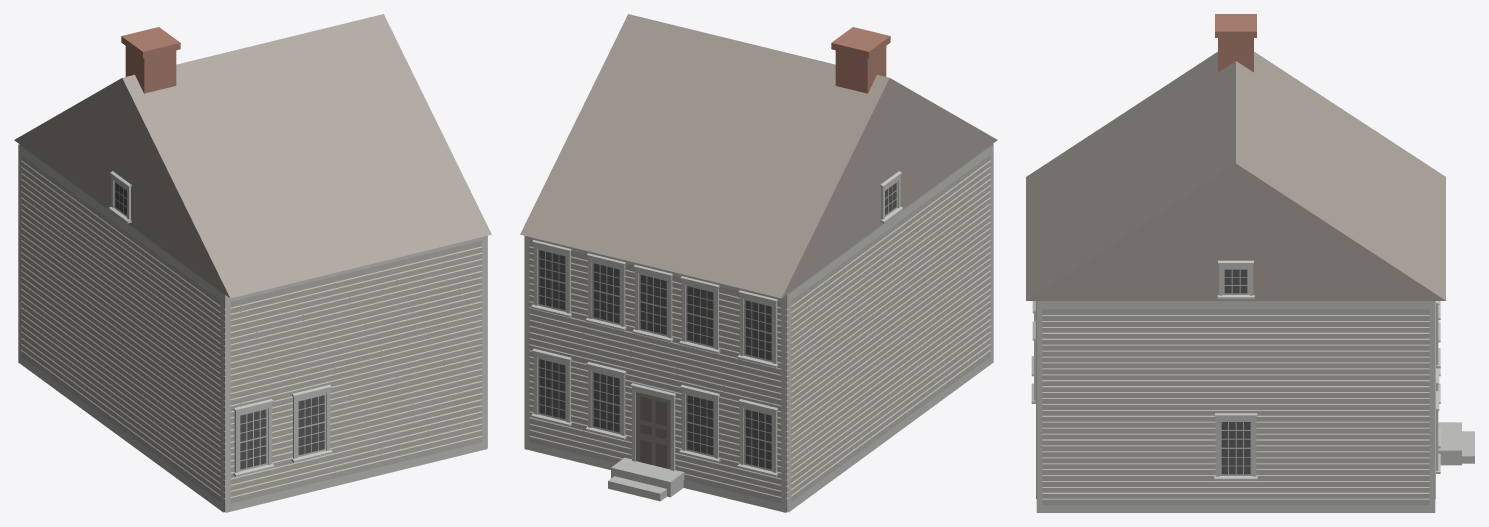
Rendered from recon_1835_north_d7_031__inferred_1835.glb.
3 views of the same model, side by side, from view 1: azimuth 30°, elevation 25°; view 2: azimuth 150°, elevation 25°; view 3: azimuth 270°, elevation 25° (orthographic). The views are drawn at different scales.
Visible parts, largest first — view 1: recon_1835_north_d7_031__inferred_1835; view 2: recon_1835_north_d7_031__inferred_1835; view 3: recon_1835_north_d7_031__inferred_1835.
Boxes of the visible parts, bbox=[...] form: recon_1835_north_d7_031__inferred_1835: bbox=[14, 14, 491, 512]; recon_1835_north_d7_031__inferred_1835: bbox=[520, 14, 997, 512]; recon_1835_north_d7_031__inferred_1835: bbox=[1026, 14, 1474, 512].
Bounding box in the file's own units: 7.04 × 9.73 × 10.44.
